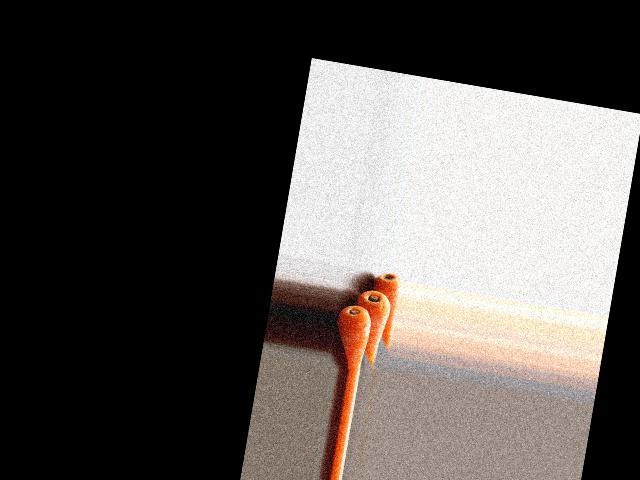carrot: (361, 279, 400, 349)
